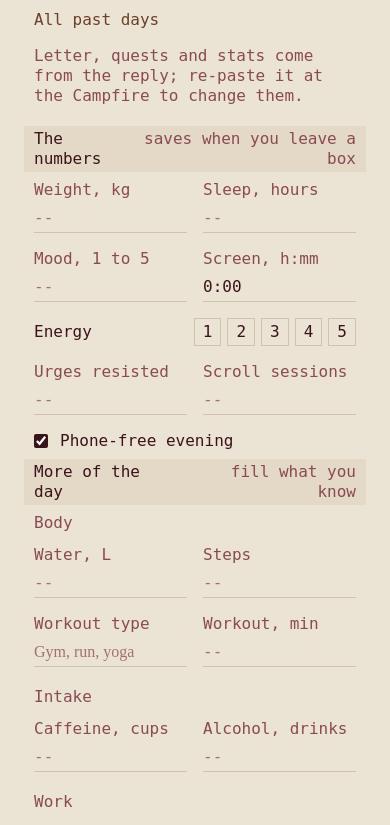
it: day editor › does not save a number it cannot read
The width and height of the screenshot is (390, 825).
Type "heavy" into the field labelled "Weight, kg" at (110, 218), box x1=34 y1=204 x2=187 y2=233
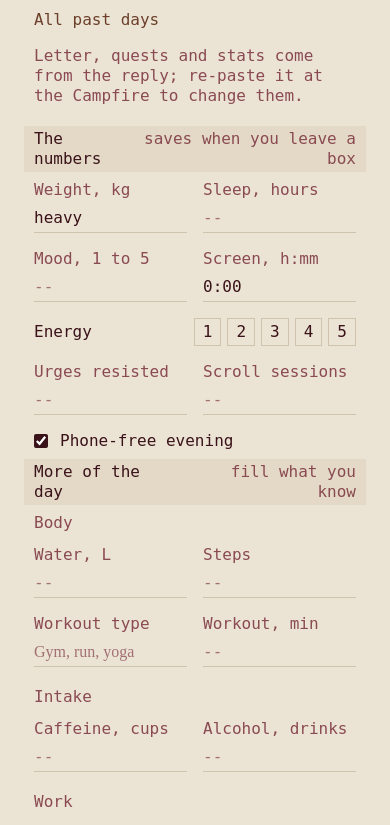
Leave the field labelled "Weight, kg", box x1=34 y1=204 x2=187 y2=233
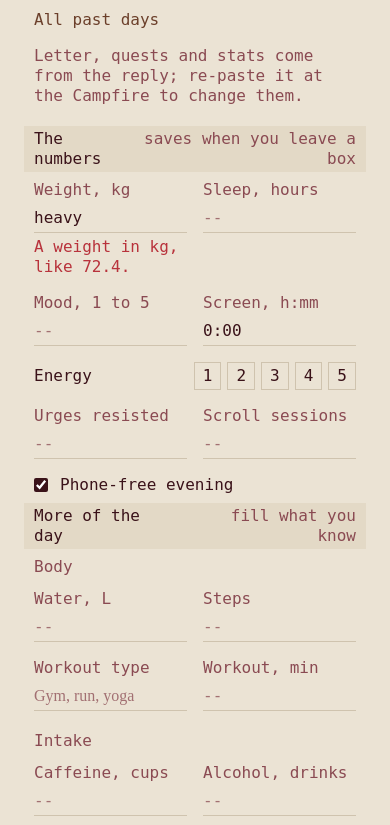
Expected: the text "A weight in kg, like 72.4." is shown, x1=34 y1=237 x2=187 y2=277
